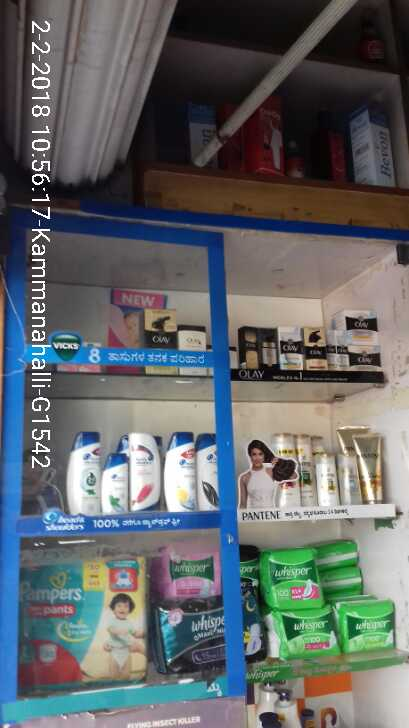beauty: (161, 430, 197, 515), (64, 433, 101, 515), (126, 434, 162, 508), (348, 428, 383, 501), (101, 452, 134, 513), (197, 435, 217, 513), (341, 306, 383, 343), (142, 306, 176, 349), (314, 455, 341, 505), (340, 451, 362, 499), (351, 344, 384, 372), (305, 326, 326, 369), (236, 324, 257, 367), (280, 330, 303, 365), (259, 328, 276, 367), (326, 324, 339, 371)
pharmacy: (20, 553, 147, 695), (164, 601, 264, 663), (161, 540, 222, 602), (260, 550, 320, 612), (266, 612, 338, 659), (341, 603, 395, 649), (319, 566, 363, 597), (314, 536, 361, 564)
